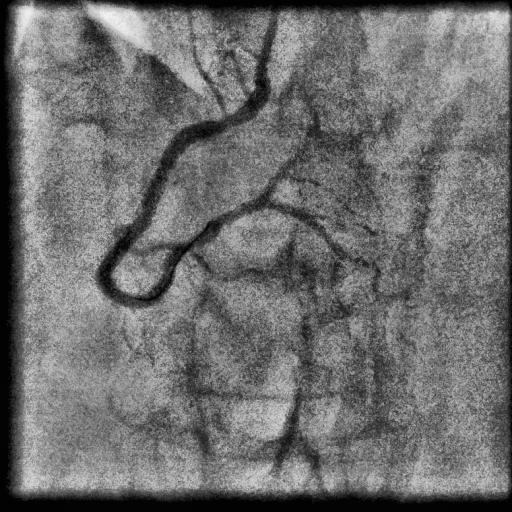pborca: (259, 146, 307, 201)
pda: (265, 200, 406, 301)
rca: (97, 87, 271, 309)
